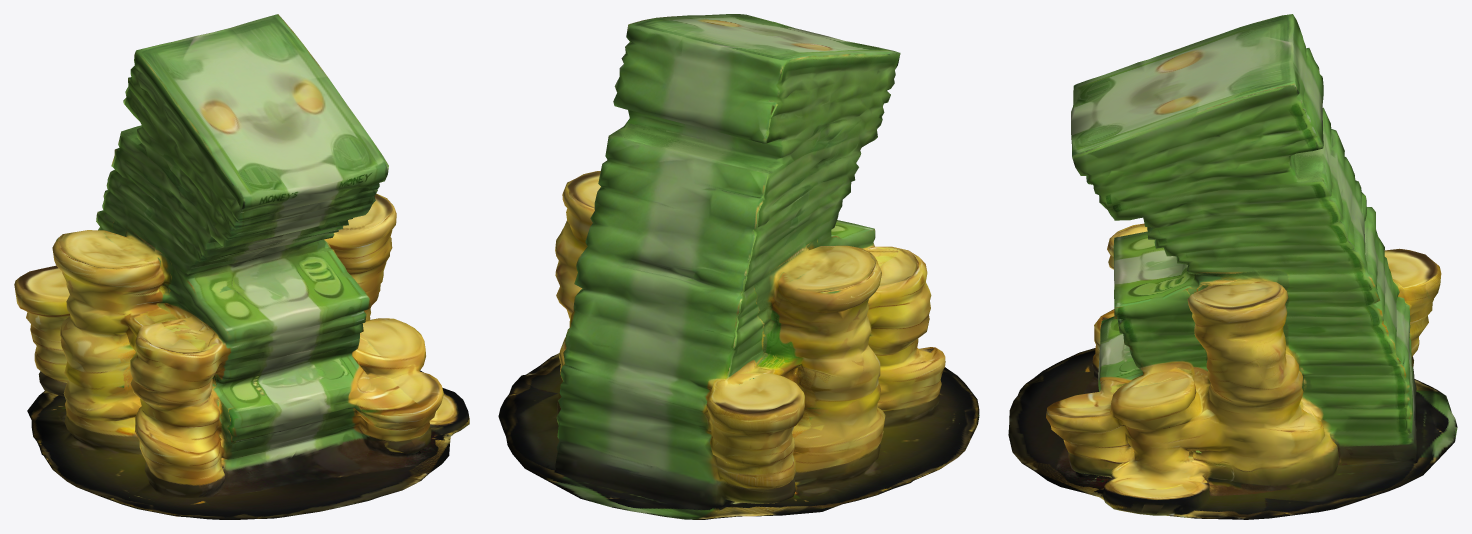
File: money.glb
3 renders of one model, left to right at view 1: azimuth 30°, elevation 25°; view 2: azimuth 150°, elevation 25°; view 3: azimuth 270°, elevation 25°, orthographic. The views are drawn at different scales.
Size of the model in its own units: 43753 by 41070 by 44211.
Materials: 1 (1 with a texture image).
